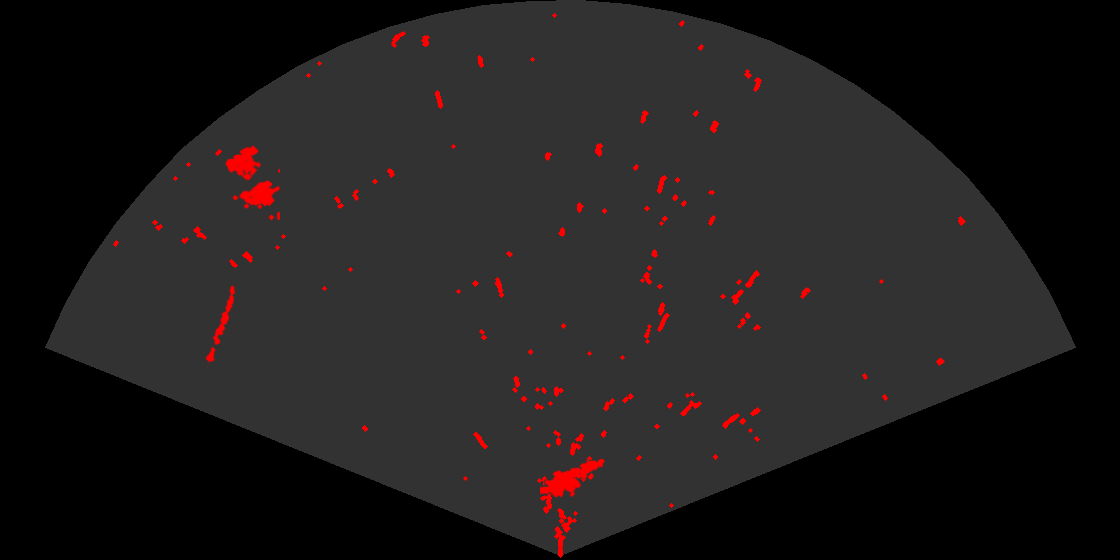cage: (223, 144, 280, 220)
chain: (204, 284, 237, 368)
frogman: (540, 457, 607, 499)
